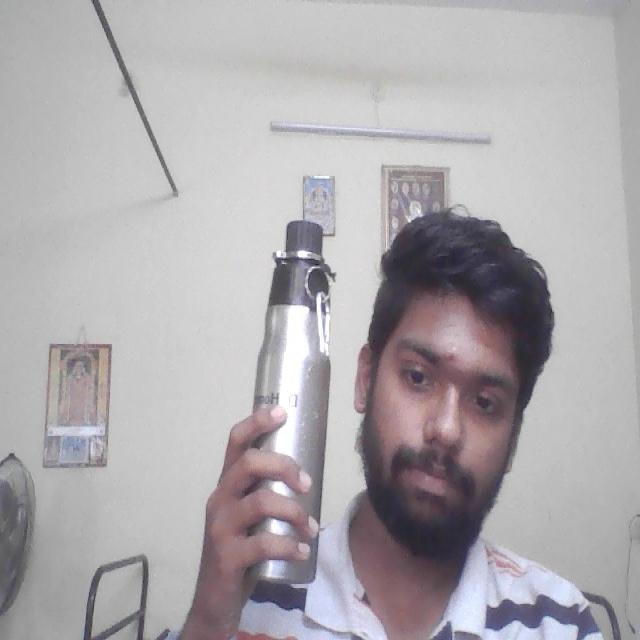Drinking: (242, 217, 342, 592)
